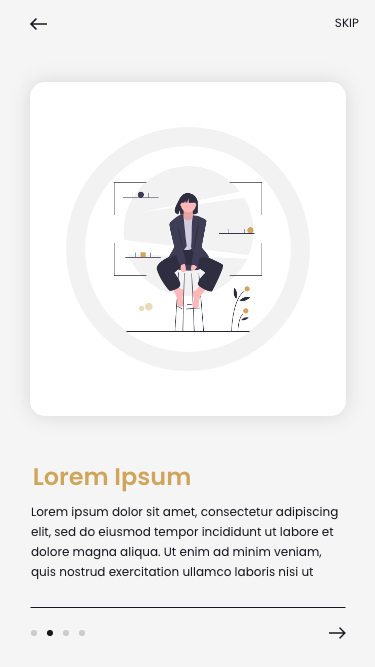Icon: (329, 626, 347, 639), (30, 18, 48, 31)
Image: (66, 127, 311, 372)
PageIndicator: (32, 629, 87, 637)
Text: (32, 506, 339, 580), (34, 468, 191, 493), (335, 18, 359, 28)
